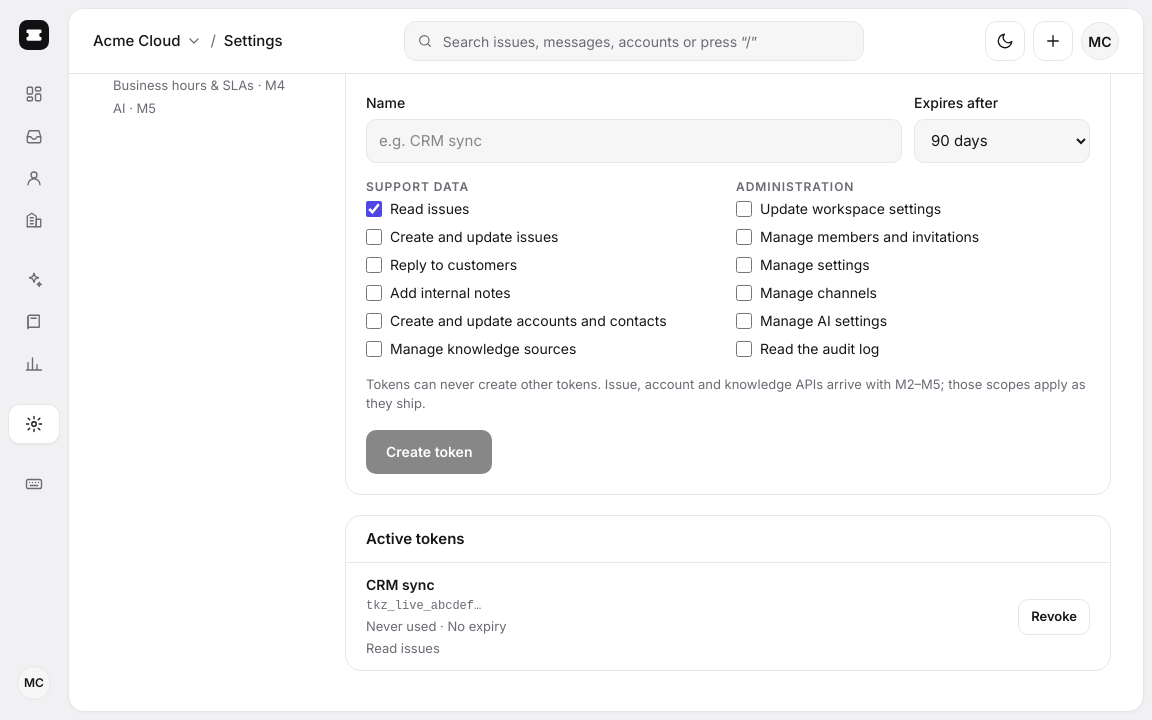
it: settings › API tokens (FR-1.6) › revokes after confirmation
The image size is (1152, 720).
(page scrolled)
Click the button with aria-label "Revoke token CRM sync": (1054,616) [1018,598,1090,634]
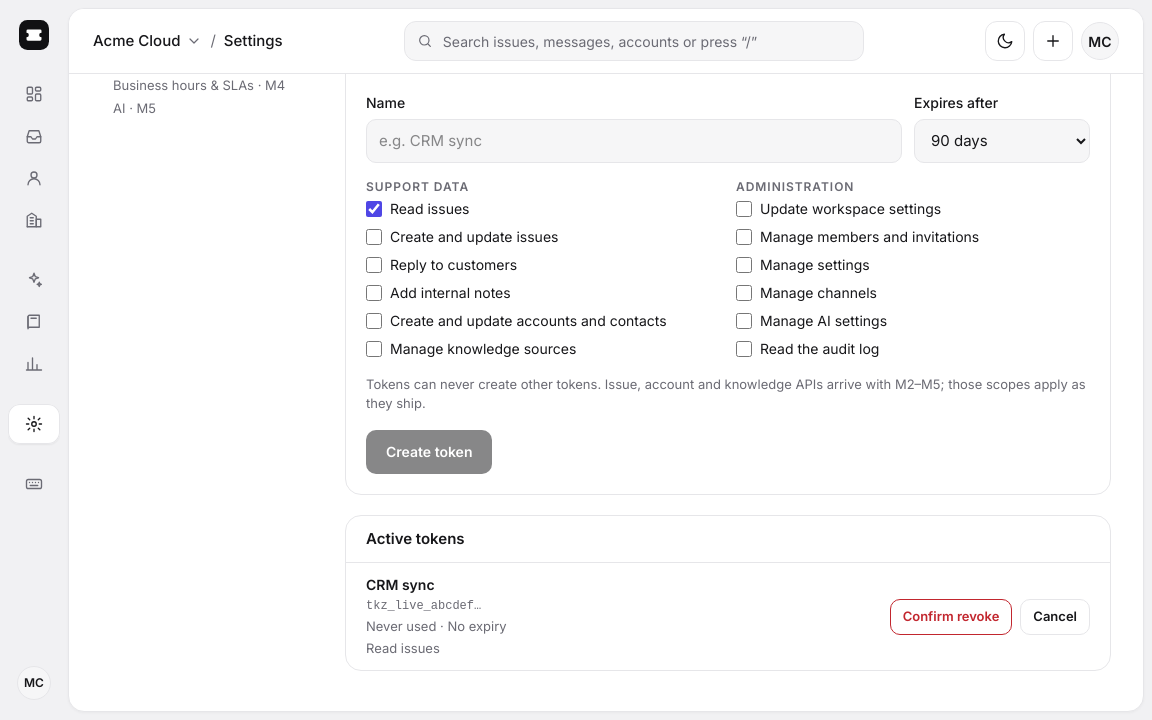
Click the button "Confirm revoke": (951,616) [890,598,1012,634]
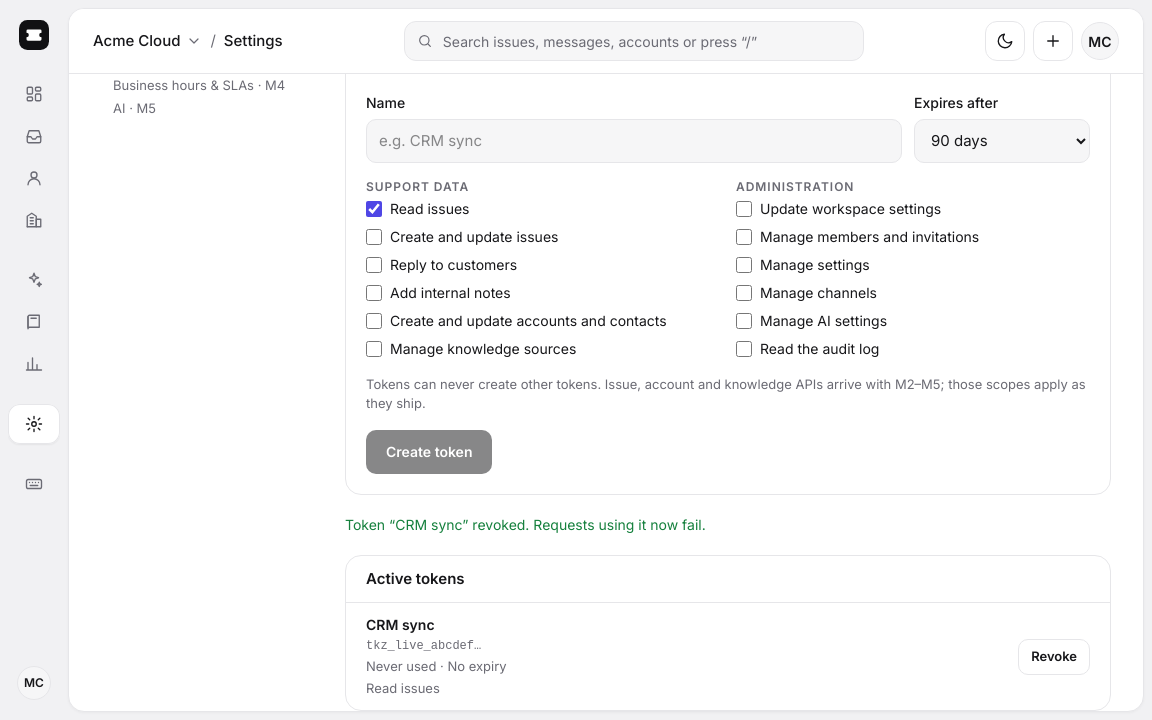
Expected: the message shows "revoked", [345,516,706,532]
